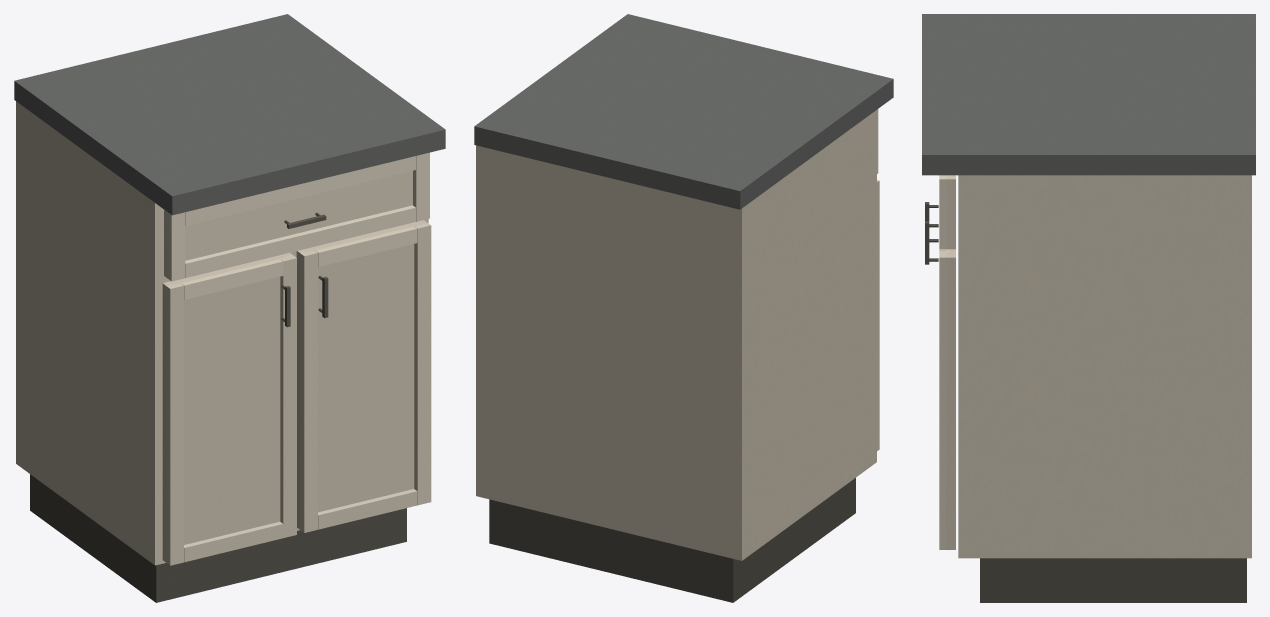
Rendered from cabinet_base.glb.
The picture shows the model from 3 angles, left to right: view 1: azimuth 30°, elevation 25°; view 2: azimuth 150°, elevation 25°; view 3: azimuth 270°, elevation 25°; orthographic projection. The views are drawn at different scales.
Visible parts, largest first — view 1: home_cabinet_base; view 2: home_cabinet_base; view 3: home_cabinet_base.
Part boxes in pixels (x1,y1,x2,y2): home_cabinet_base: (14,14,445,602); home_cabinet_base: (474,14,893,602); home_cabinet_base: (922,14,1255,602).
Size of the model in its own units: 0.6 by 0.9 by 0.6.
Materials: 1 (1 with a texture image).
